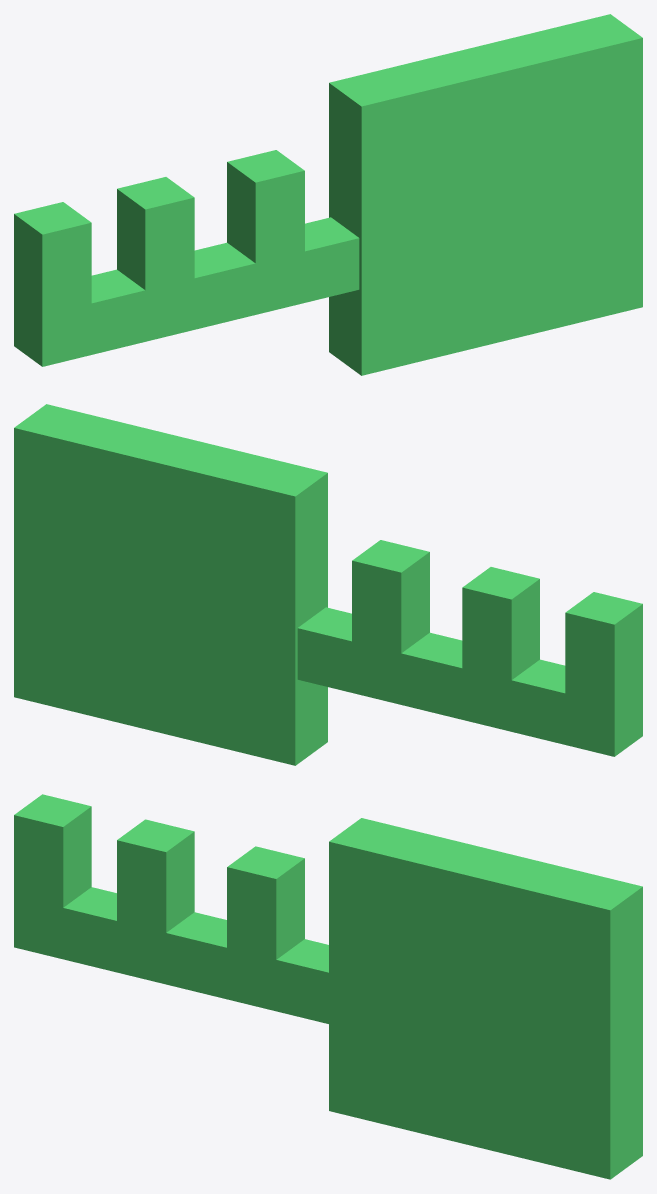
File: Key_Square_C.fbx
The picture shows the model from 3 angles, top to bottom: view 1: azimuth 30°, elevation 25°; view 2: azimuth 150°, elevation 25°; view 3: azimuth 330°, elevation 25°; orthographic projection.
Visible parts, largest first — view 1: Cube.004, Cube.003, Cube, Cube.002, Cube.001; view 2: Cube.004, Cube.003, Cube, Cube.001, Cube.002; view 3: Cube.004, Cube.003, Cube.002, Cube.001, Cube.
Part boxes in pixels (x1,y1,x2,y2): Cube.004: (329,14,642,375); Cube.003: (61,217,359,361); Cube: (14,202,91,366); Cube.002: (227,150,304,314); Cube.001: (117,177,194,341); Cube.004: (14,404,327,765); Cube.003: (297,607,565,744); Cube: (565,592,642,756); Cube.001: (462,567,539,731); Cube.002: (352,540,429,653); Cube.004: (329,818,642,1179); Cube.003: (33,887,328,1023); Cube.002: (227,846,304,1011); Cube.001: (117,819,194,984); Cube: (14,794,91,951).
Bounding box in the file's own units: 225 × 96.86 × 21.19.
